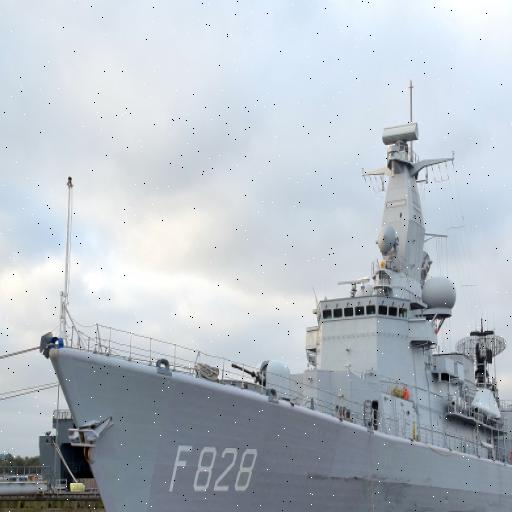Fragata: (44, 72, 512, 512)
